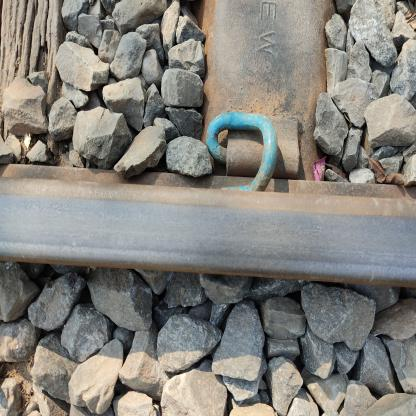Non Defective 1: (187, 90, 325, 208)
